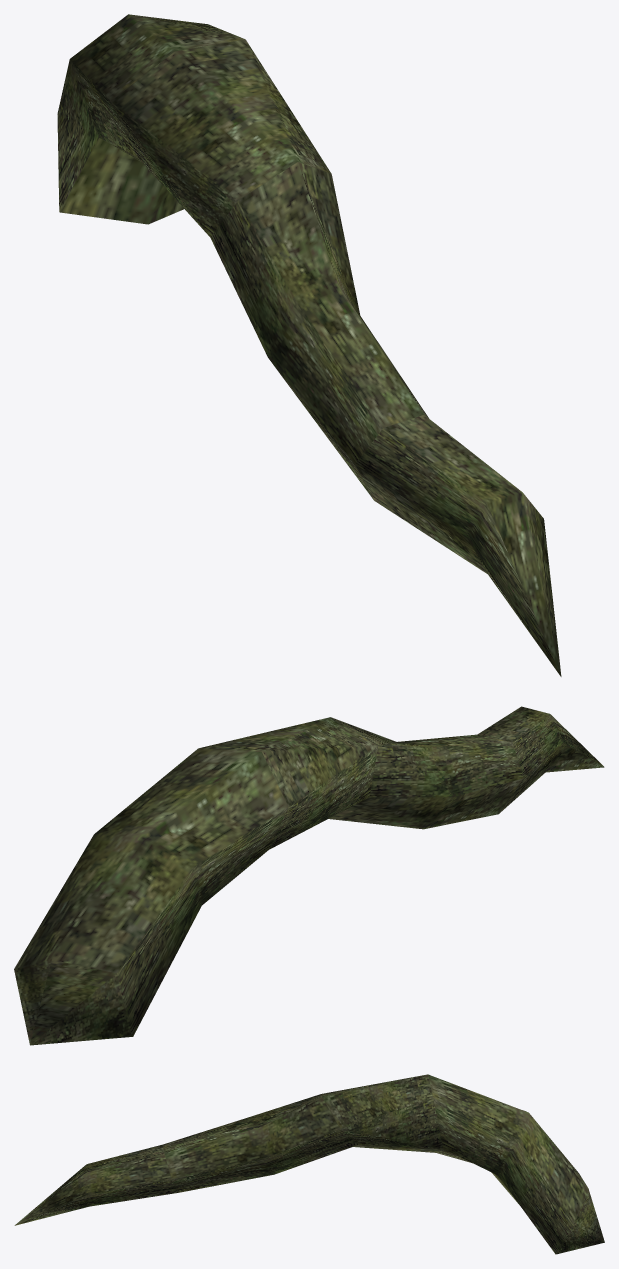
File: OZ_00_ma_wood02C.glb
The picture shows the model from 3 angles, top to bottom: view 1: azimuth 30°, elevation 25°; view 2: azimuth 150°, elevation 25°; view 3: azimuth 270°, elevation 25°; orthographic projection. The views are drawn at different scales.
Parts seen in each view (by area): view 1: OM_00_ma_wood02C; view 2: OM_00_ma_wood02C; view 3: OM_00_ma_wood02C.
Part boxes in pixels (left/top/right/bottom): OM_00_ma_wood02C: left=57, top=14, right=561, bottom=676; OM_00_ma_wood02C: left=14, top=706, right=604, bottom=1045; OM_00_ma_wood02C: left=14, top=1074, right=604, bottom=1254.
Bounding box in the file's own units: 1.27 × 1.53 × 5.18.
Materials: 1 (1 with a texture image).
